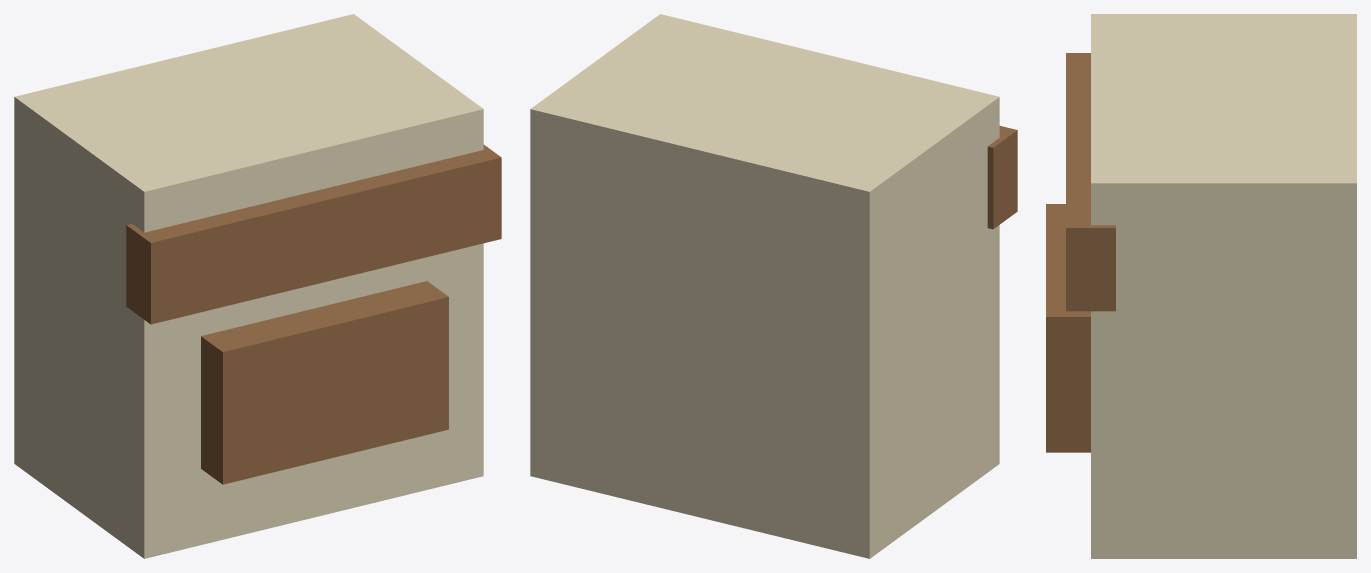
The model's file is mascate_mochila.glb.
3 renders of one model, left to right at view 1: azimuth 30°, elevation 25°; view 2: azimuth 150°, elevation 25°; view 3: azimuth 270°, elevation 25°, orthographic. The views are drawn at different scales.
Visible parts, largest first — view 1: mascate_mochila; view 2: mascate_mochila; view 3: mascate_mochila.
Boxes of the visible parts, box(x1,y1,x2,y2) form: mascate_mochila: box(14, 14, 501, 558); mascate_mochila: box(530, 14, 1017, 558); mascate_mochila: box(1046, 14, 1356, 558).
Size of the model in its own units: 2 by 2 by 1.5.
